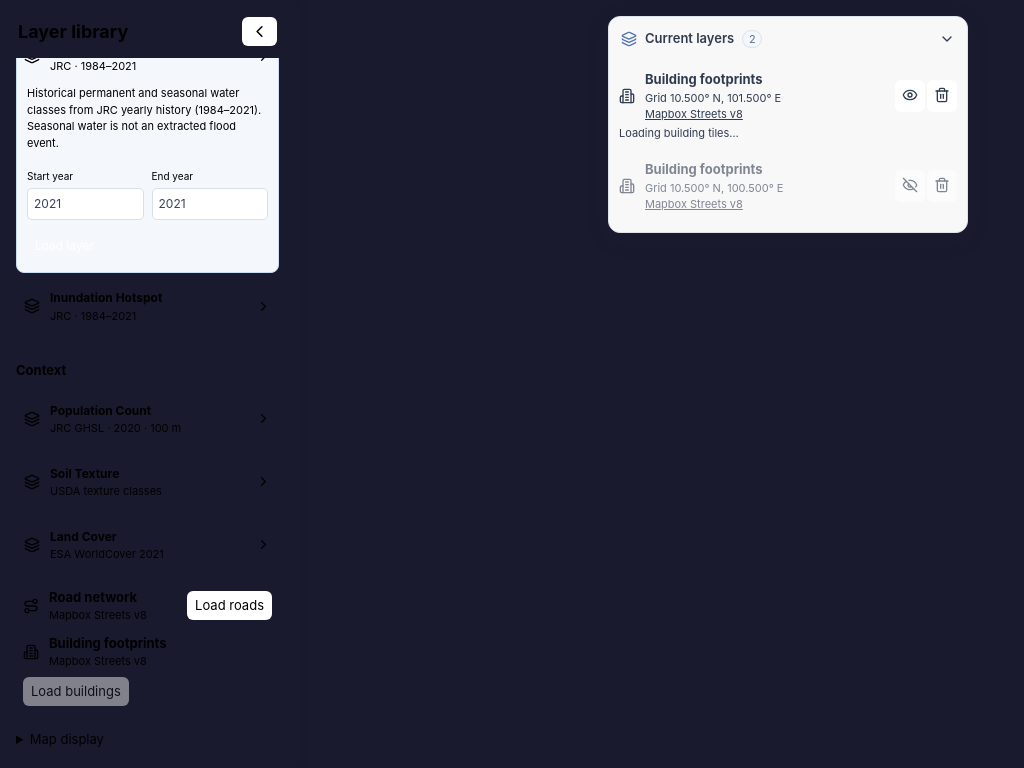
Test case: building footprints append by grid and have their own visibility and removal
The width and height of the screenshot is (1024, 768).
Earlier steps of the test are not shown.
Later steps or results of the test are not shown.
(page scrolled)
Click the button named "Remove Building footprints, Grid 10.500° N, 100.500° E": {"x": 942, "y": 186} [927,170,957,202]
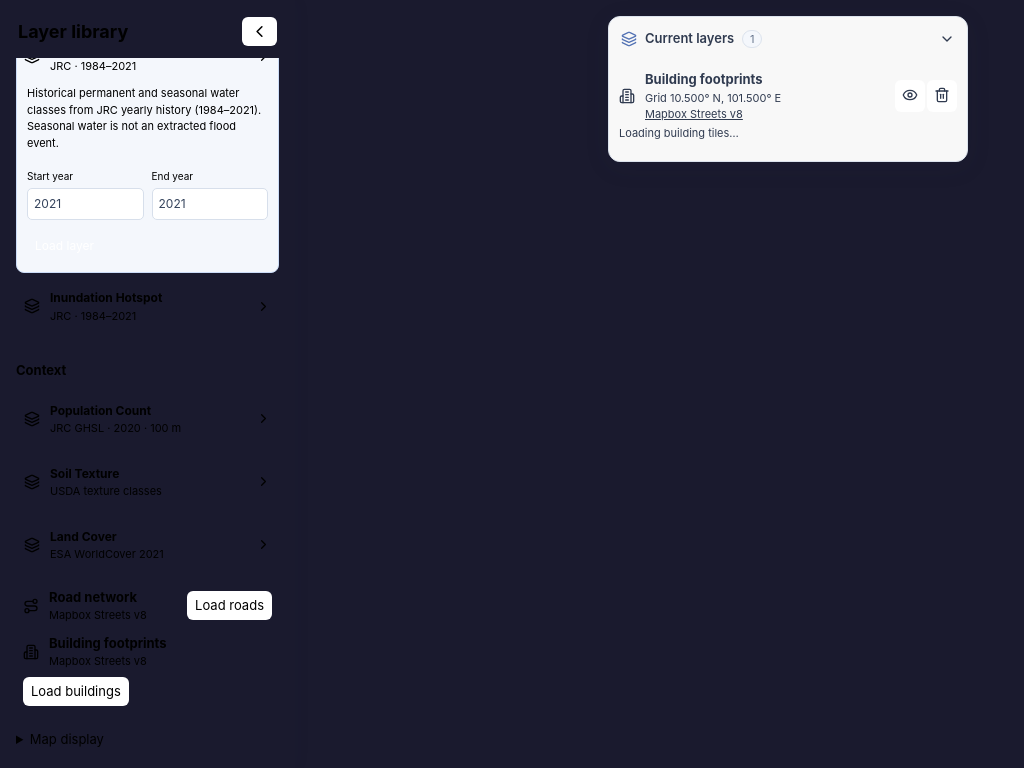
Now the button "Load buildings" is enabled, box [23,676,129,706]
